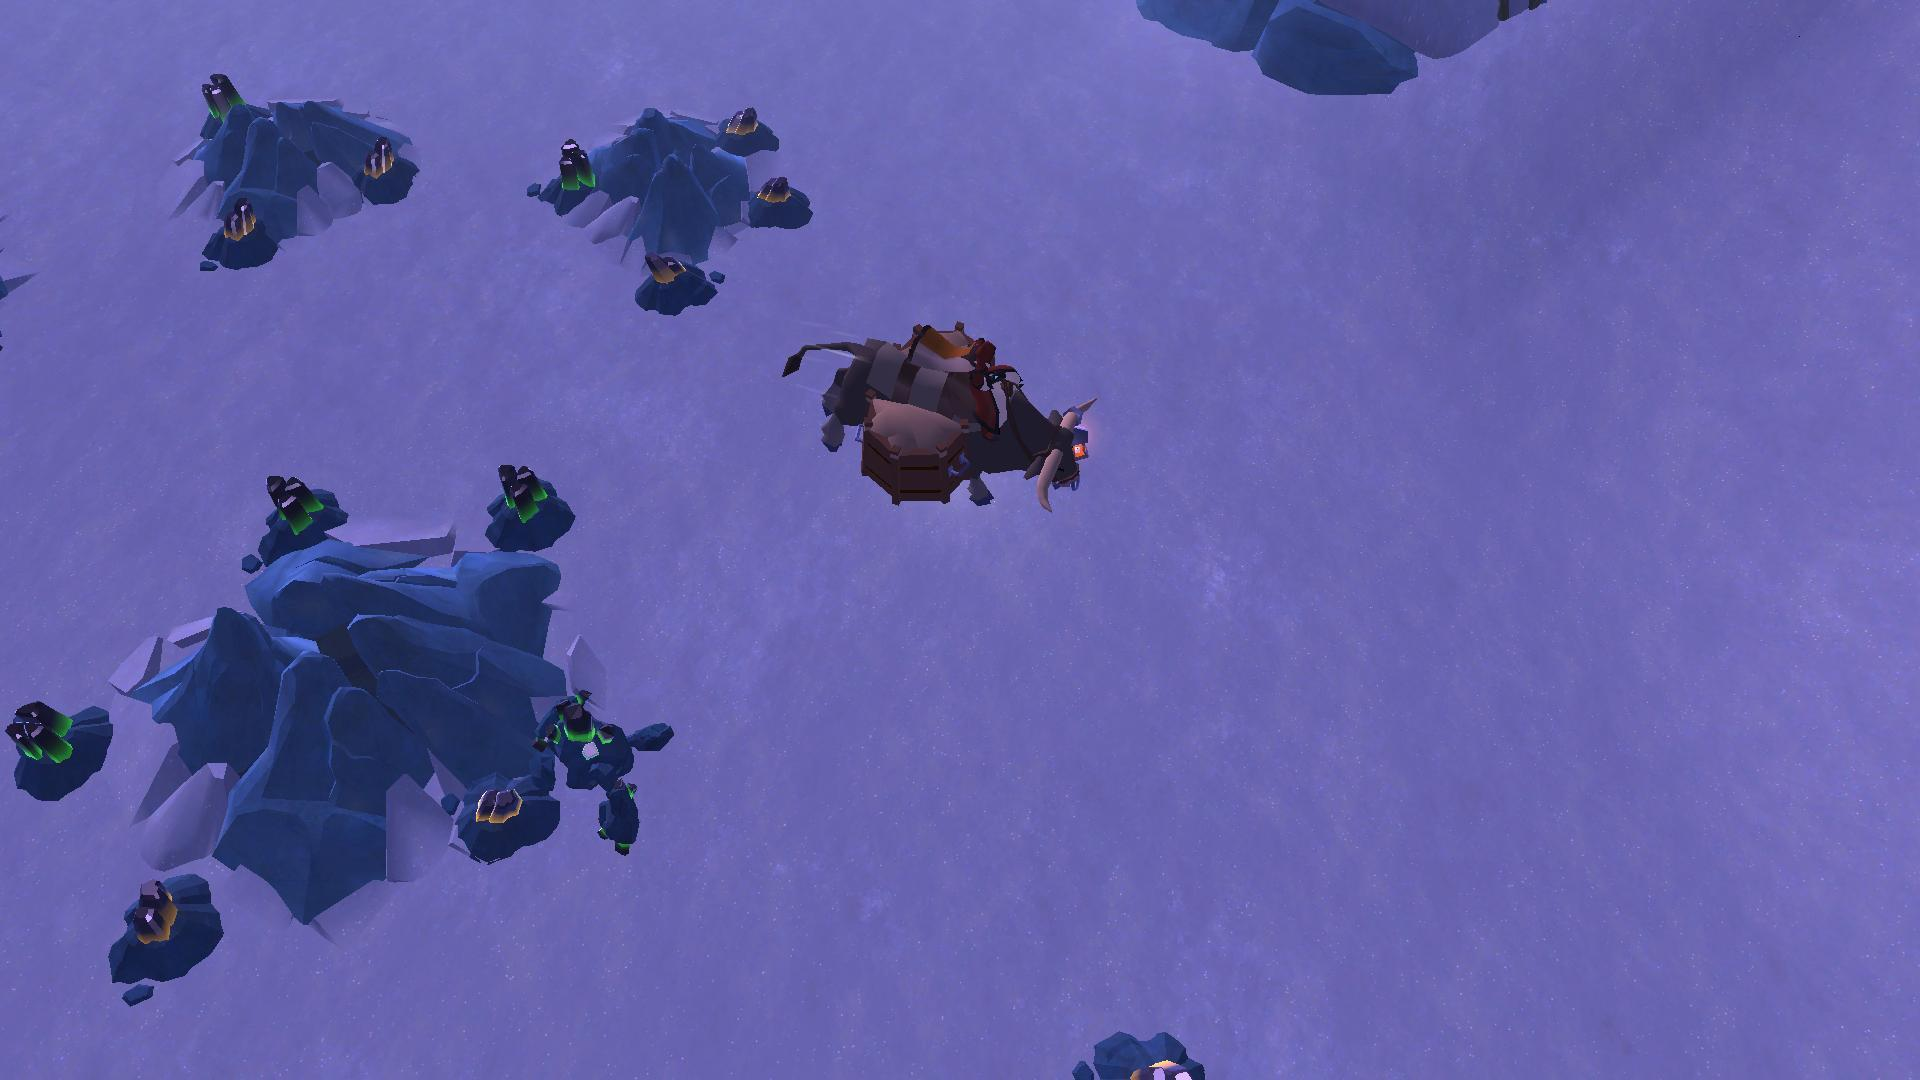ore_t3: (9, 690, 76, 773), (260, 468, 327, 542), (489, 460, 555, 526), (193, 70, 248, 131), (553, 132, 596, 202)
